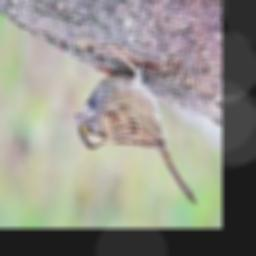Sparrow: (76, 46, 198, 204)
